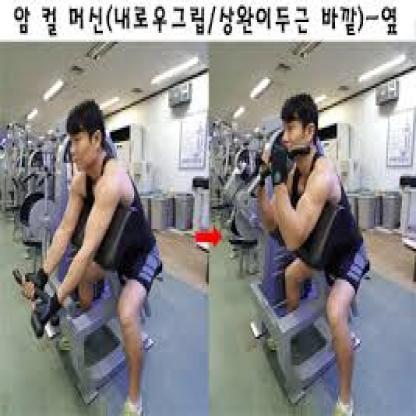arm curl machine: (247, 145, 372, 406), (12, 265, 155, 406)
